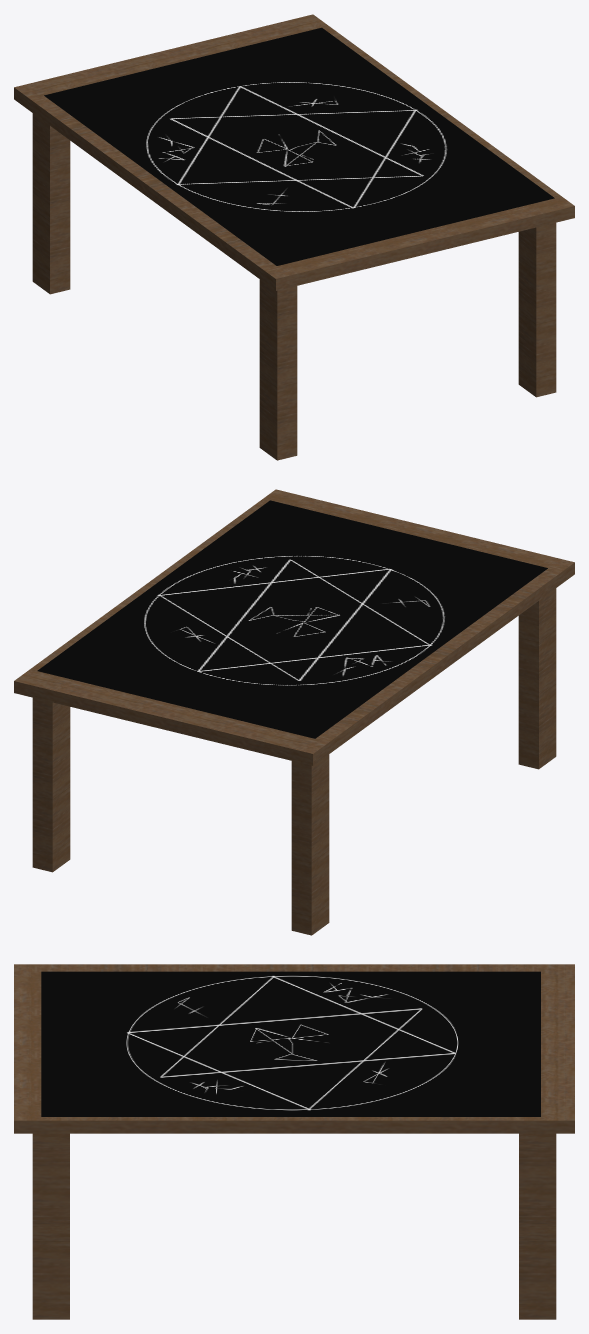
Rendered from MesaPentagrama.fbx.
The picture shows the model from 3 angles, top to bottom: view 1: azimuth 30°, elevation 25°; view 2: azimuth 150°, elevation 25°; view 3: azimuth 270°, elevation 25°; orthographic projection. The views are drawn at different scales.
Visible parts, largest first — view 1: Desenho_CirculoMagiaNegra, Mesa; view 2: Desenho_CirculoMagiaNegra, Mesa; view 3: Desenho_CirculoMagiaNegra, Mesa.
Boxes of the visible parts, box(x1,y1,x2,y2) form: Desenho_CirculoMagiaNegra: box(44, 27, 554, 265); Mesa: box(14, 14, 574, 460); Desenho_CirculoMagiaNegra: box(37, 500, 547, 738); Mesa: box(14, 489, 574, 935); Desenho_CirculoMagiaNegra: box(41, 971, 540, 1116); Mesa: box(14, 964, 574, 1319).
Bounding box in the file's own units: 98.93 × 60.21 × 150.
Materials: 2 (2 with a texture image).
